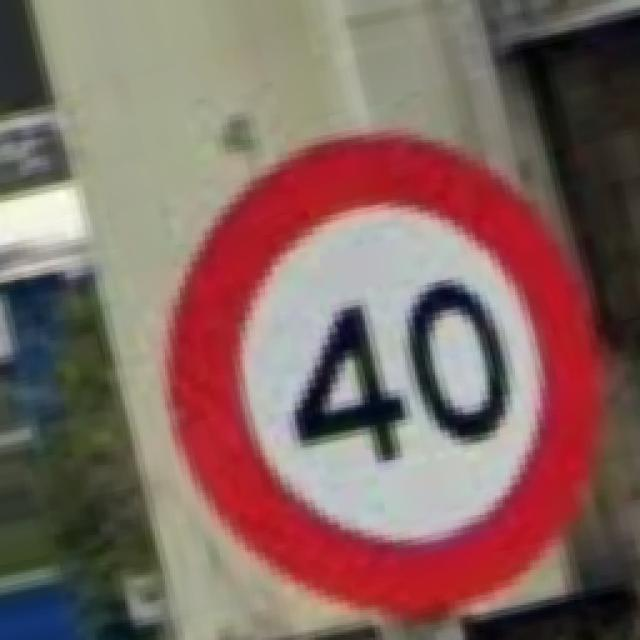Speed Limit -40-: (168, 132, 598, 615)
